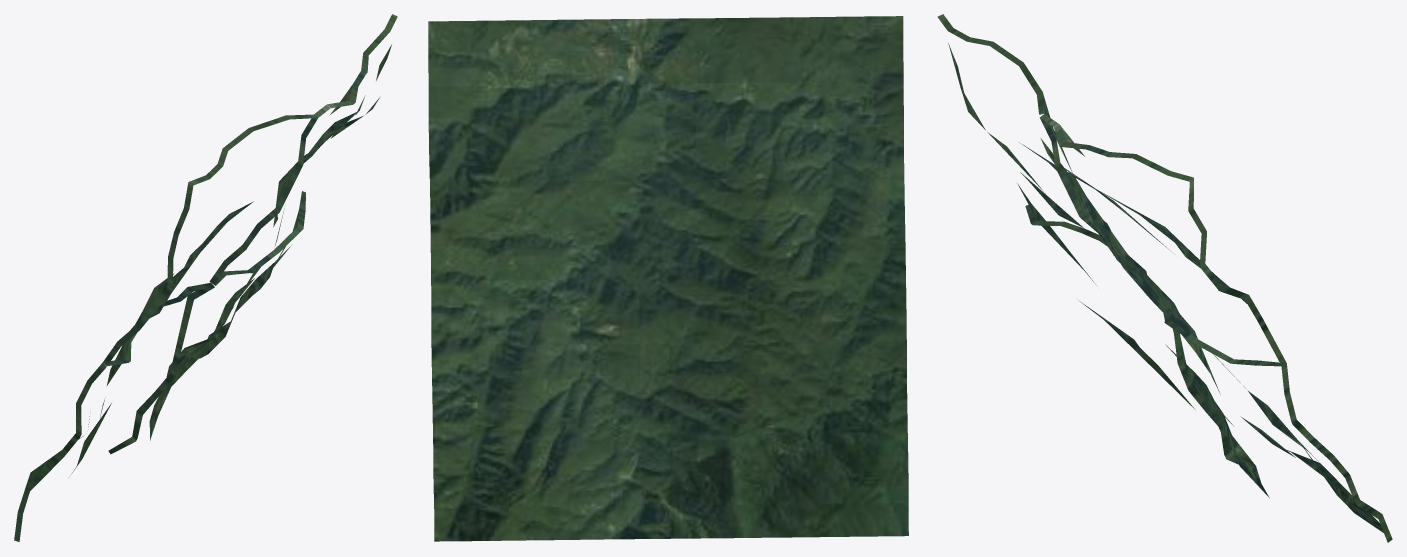
3 views of the same model, side by side, from view 1: azimuth 30°, elevation 25°; view 2: azimuth 150°, elevation 25°; view 3: azimuth 270°, elevation 25° (orthographic). The views are drawn at different scales.
Bounding box in the file's own units: 9719 × 9069 × 8690.
1 material, 1 textured.
